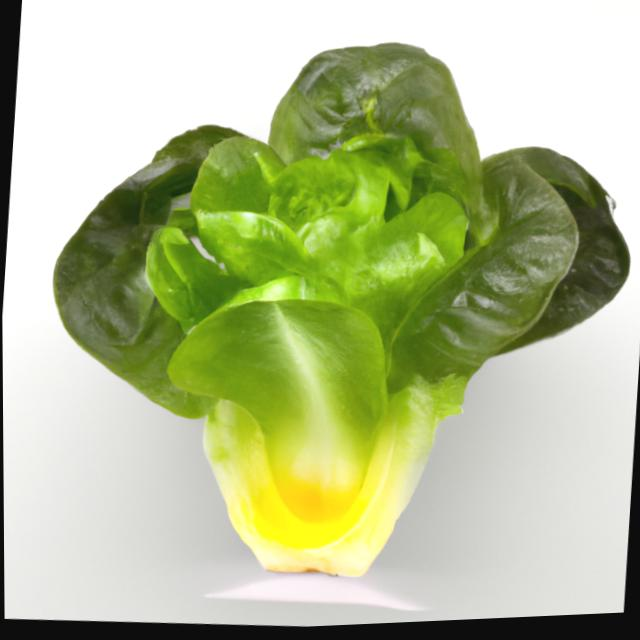-N: (22, 0, 640, 626)
